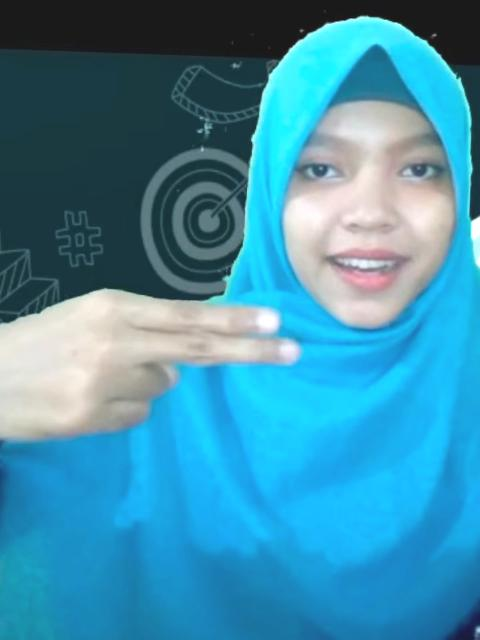H: (0, 286, 300, 448)
